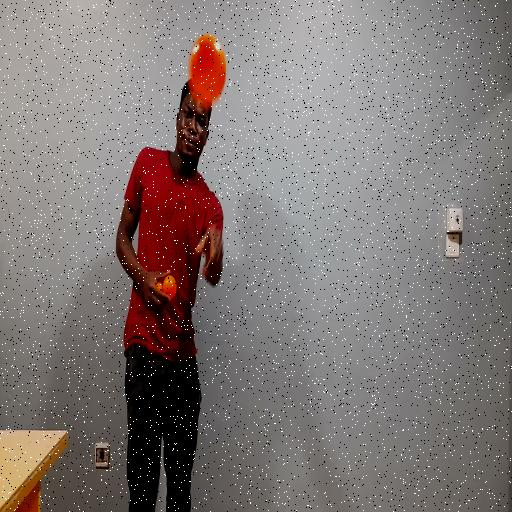plastic-ball: (185, 28, 228, 110)
